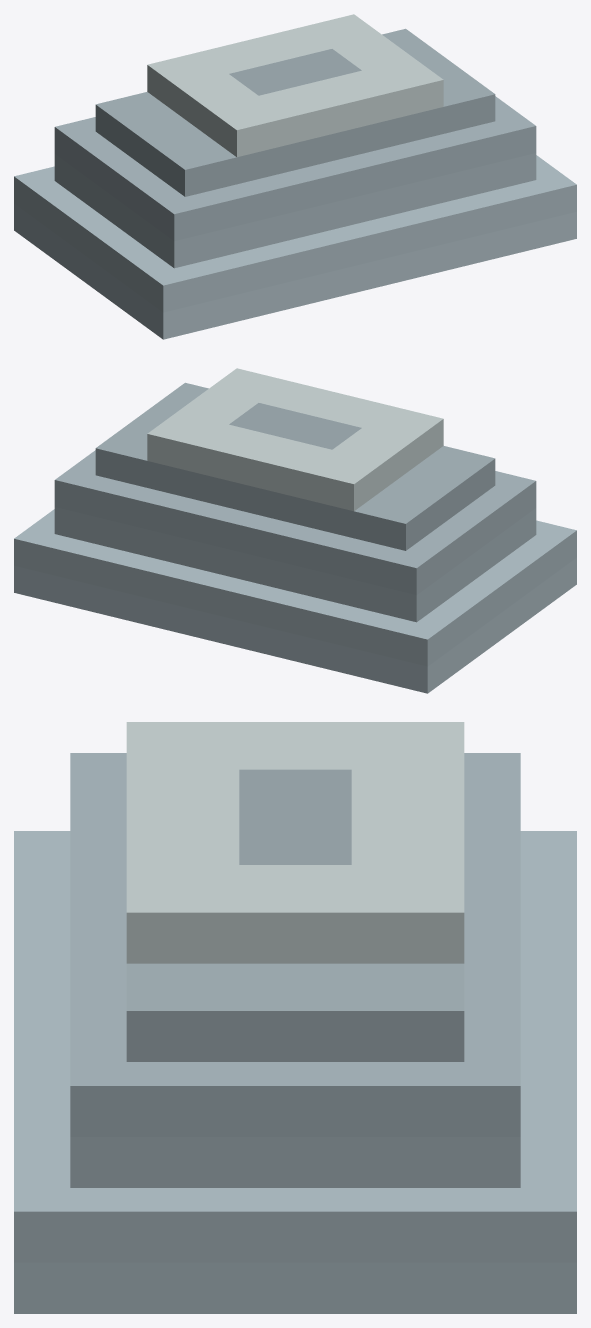
File: mat_mithril.glb
3 renders of one model, top to bottom at view 1: azimuth 30°, elevation 25°; view 2: azimuth 150°, elevation 25°; view 3: azimuth 270°, elevation 25°, orthographic. The views are drawn at different scales.
Parts seen in each view (by area): view 1: mat_mithril; view 2: mat_mithril; view 3: mat_mithril.
Boxes of the visible parts, x1,y1,x2,y2 form: mat_mithril: (14,14,576,339); mat_mithril: (14,368,576,693); mat_mithril: (14,722,576,1313).
Size of the model in its own units: 0.192 by 0.072 by 0.12.
